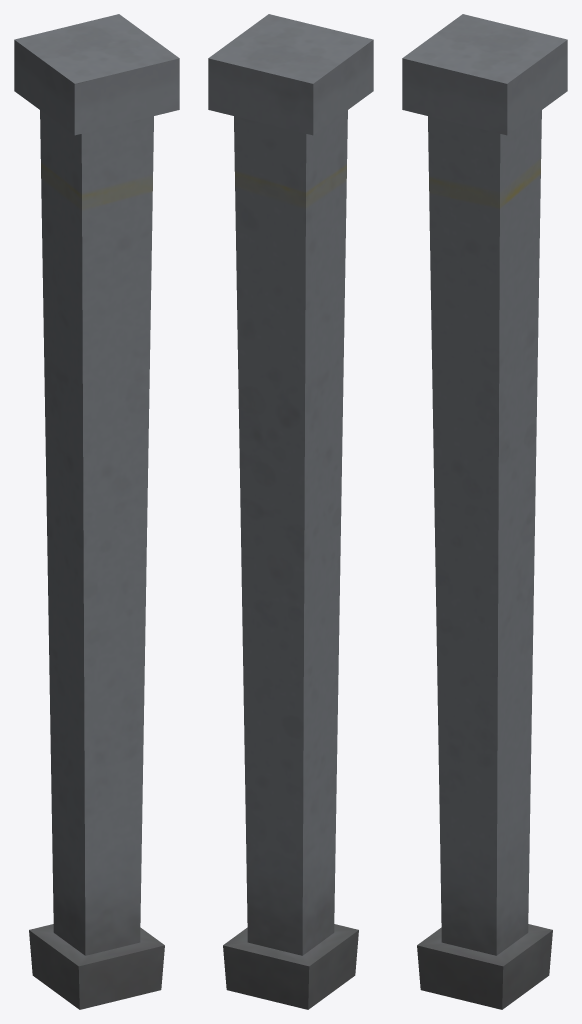
Rendered from spaceStation_wallcorner.fbx.
The picture shows the model from 3 angles, left to right: view 1: azimuth 30°, elevation 25°; view 2: azimuth 150°, elevation 25°; view 3: azimuth 330°, elevation 25°; orthographic projection.
Visible parts, largest first — view 1: wall_corner; view 2: wall_corner; view 3: wall_corner.
Part boxes in pixels (<box>): wall_corner: <box>14,14,179,1009</box>; wall_corner: <box>208,14,373,1009</box>; wall_corner: <box>402,14,567,1009</box>.
Size of the model in its own units: 0.4891 by 4.16 by 0.4891.
Materials: 1 (1 with a texture image).
